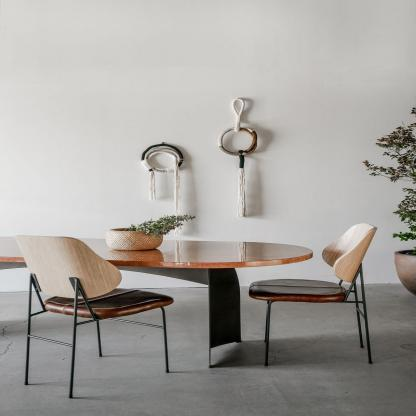chair: (0, 228, 178, 401), (240, 218, 391, 372)
table: (0, 234, 316, 366)
